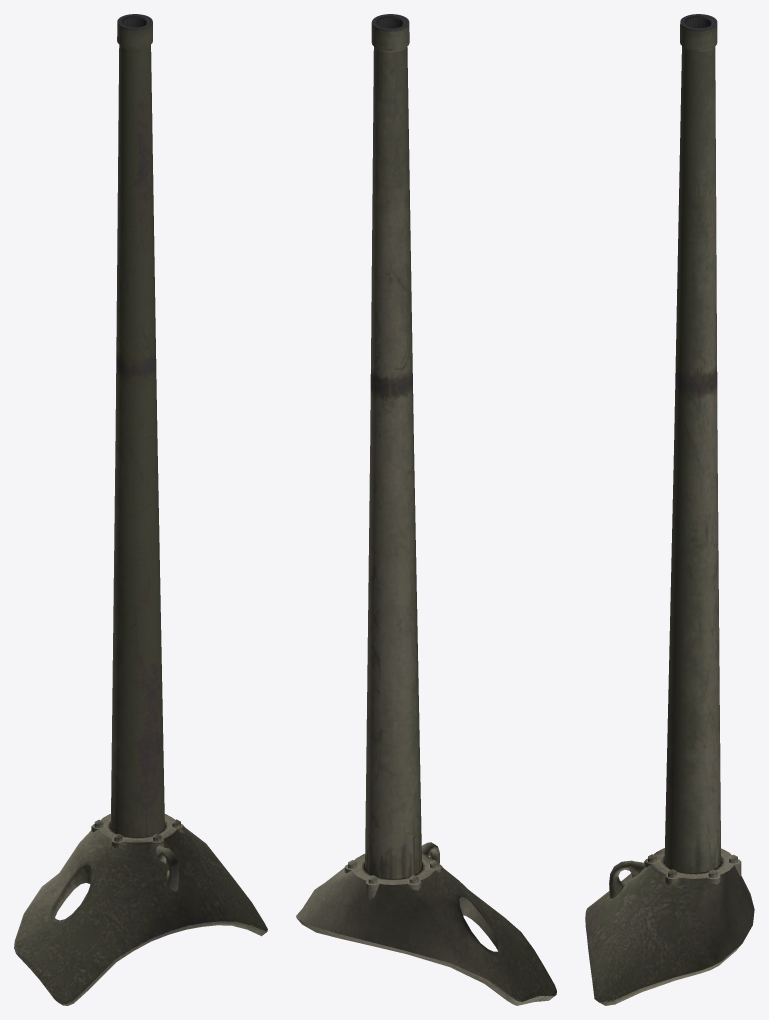
Rendered from Gun_01.glb.
3 renders of one model, left to right at view 1: azimuth 30°, elevation 25°; view 2: azimuth 150°, elevation 25°; view 3: azimuth 270°, elevation 25°, orthographic. The views are drawn at different scales.
Visible parts, largest first — view 1: set_0_group_0; view 2: set_0_group_0; view 3: set_0_group_0.
Boxes of the visible parts, <box> form: set_0_group_0: <box>14,14,267,1005</box>; set_0_group_0: <box>296,14,556,1005</box>; set_0_group_0: <box>585,14,754,1005</box>.
Bounding box in the file's own units: 0.9804 × 4.14 × 0.6541.
1 material, 1 textured.
